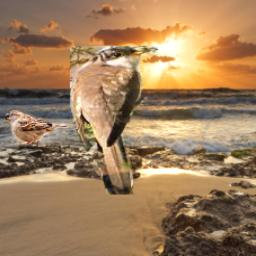Cuckoo: (70, 47, 158, 196)
Sparrow: (6, 109, 69, 145)
